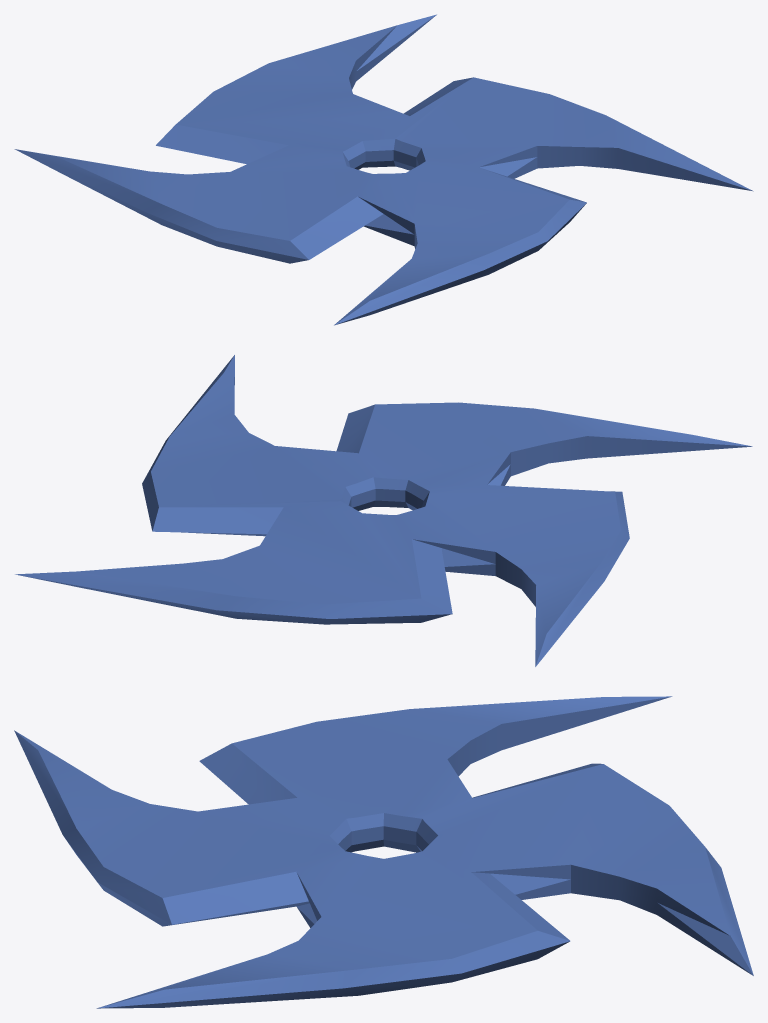
The picture shows the model from 3 angles, top to bottom: view 1: azimuth 30°, elevation 25°; view 2: azimuth 150°, elevation 25°; view 3: azimuth 270°, elevation 25°; orthographic projection. The views are drawn at different scales.
Parts seen in each view (by area): view 1: Circle001; view 2: Circle001; view 3: Circle001.
Part boxes in pixels (box(x1,y1,x2,y2)): Circle001: box(14, 14, 753, 325); Circle001: box(15, 355, 752, 666); Circle001: box(14, 696, 753, 1008).
Size of the model in its own units: 58.35 by 3.03 by 58.26.
